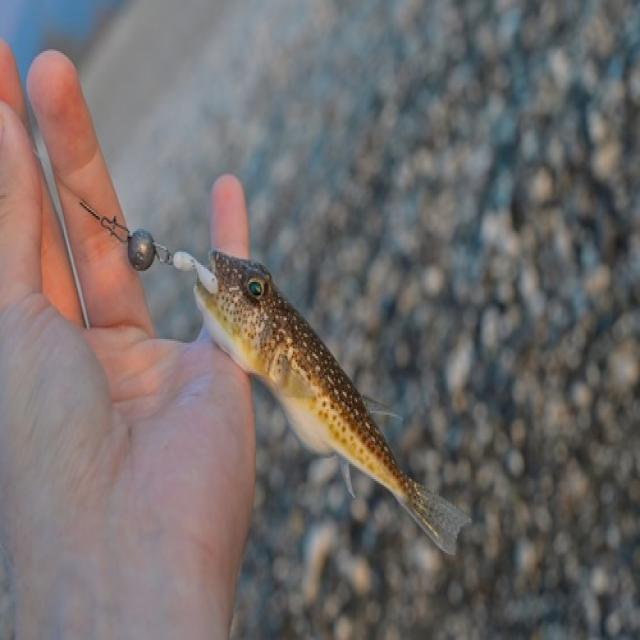Balik: (195, 250, 469, 552)
